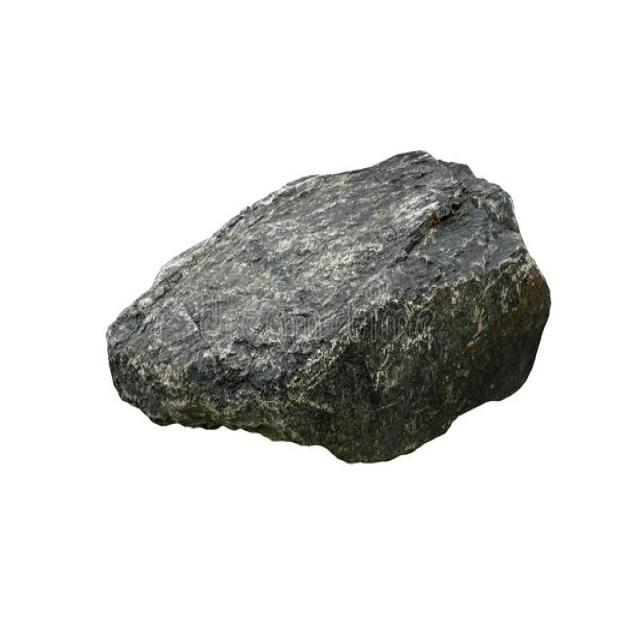Sedimentary: (88, 146, 561, 468)
